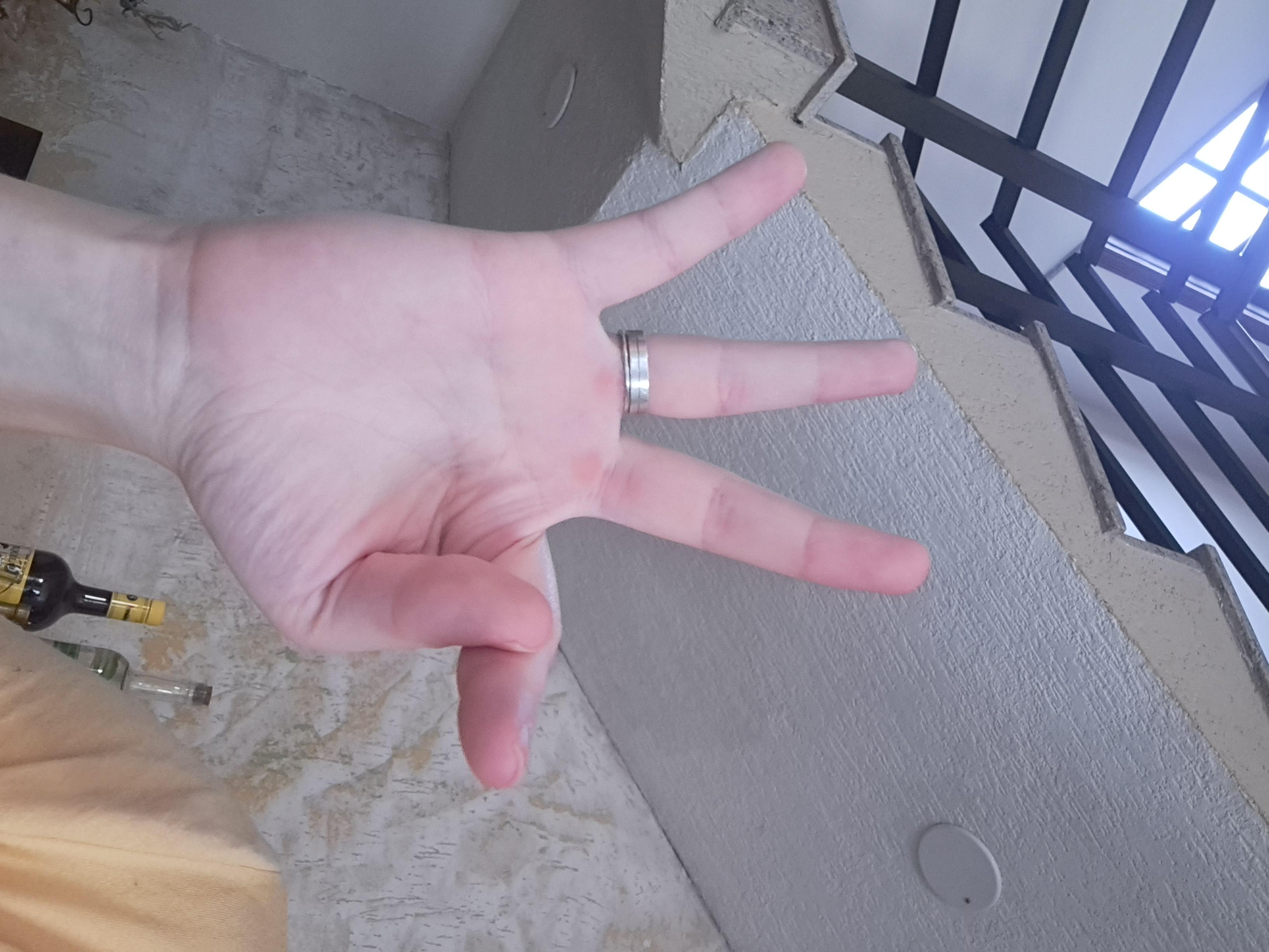T: (140, 254, 1042, 828)
